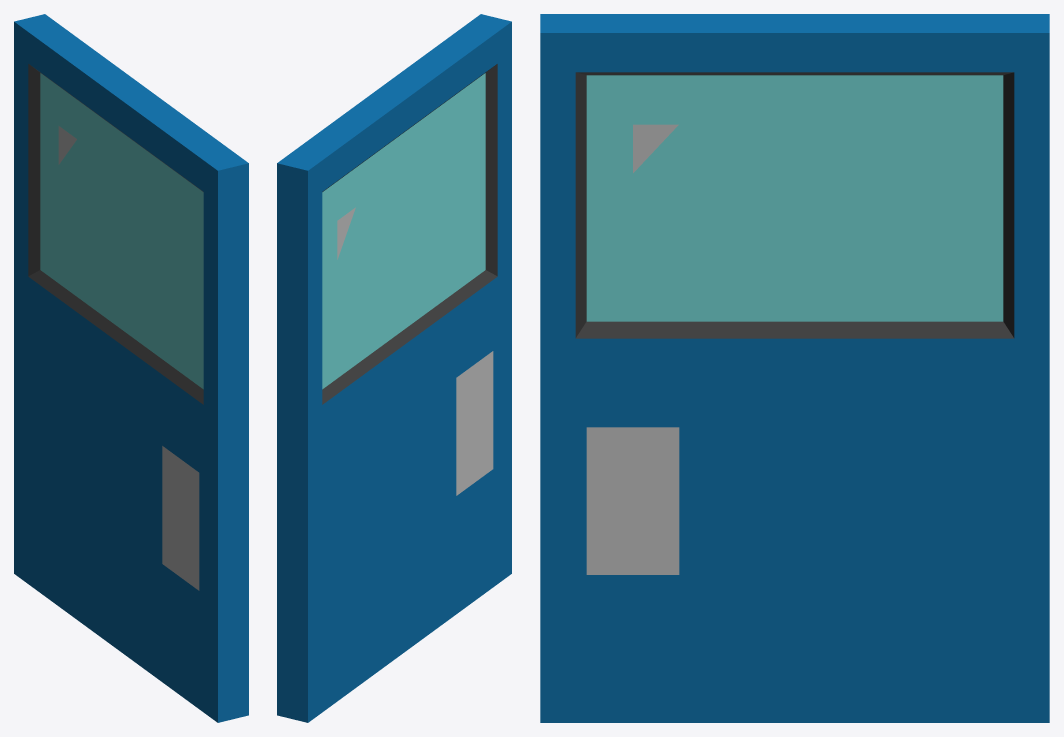
Rendered from Caf_Door.fbx.
The picture shows the model from 3 angles, left to right: view 1: azimuth 30°, elevation 25°; view 2: azimuth 150°, elevation 25°; view 3: azimuth 270°, elevation 25°; orthographic projection. The views are drawn at different scales.
Parts seen in each view (by area): view 1: Cube.002; view 2: Cube.002; view 3: Cube.002.
Part boxes in pixels (x1,y1,x2,y2): Cube.002: (14,14,248,722); Cube.002: (277,14,511,722); Cube.002: (540,14,1049,722).
Bounding box in the file's own units: 19.61 × 333 × 223.
